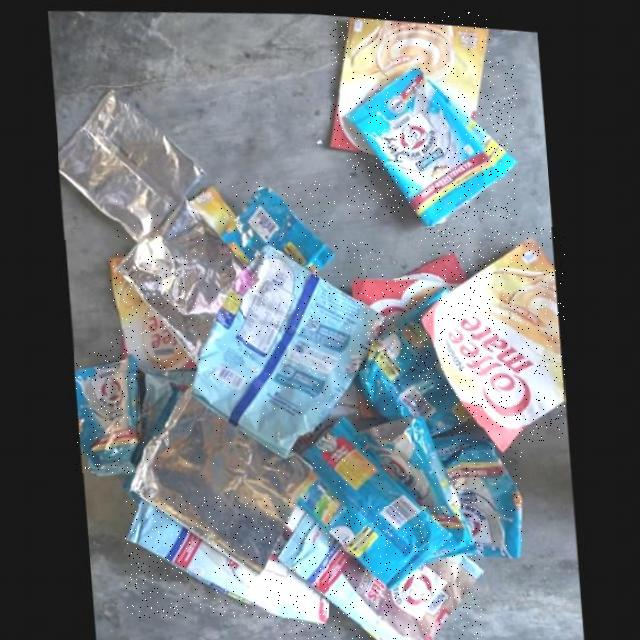wrapper: (192, 239, 385, 453), (131, 390, 311, 568), (422, 228, 565, 443), (277, 507, 482, 639), (348, 59, 517, 219), (298, 409, 452, 583), (126, 496, 329, 618), (58, 86, 204, 240), (331, 11, 490, 148), (116, 197, 243, 359), (362, 408, 477, 554), (359, 279, 470, 426), (434, 428, 522, 548), (111, 254, 196, 370), (221, 182, 335, 265), (75, 351, 139, 473)
